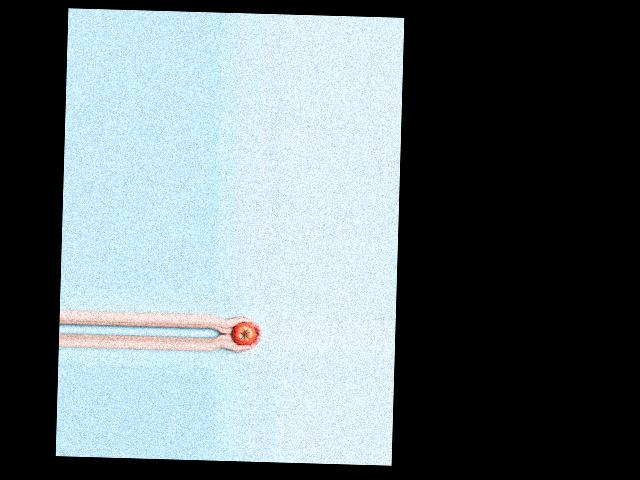tomato: (232, 322, 256, 346)
